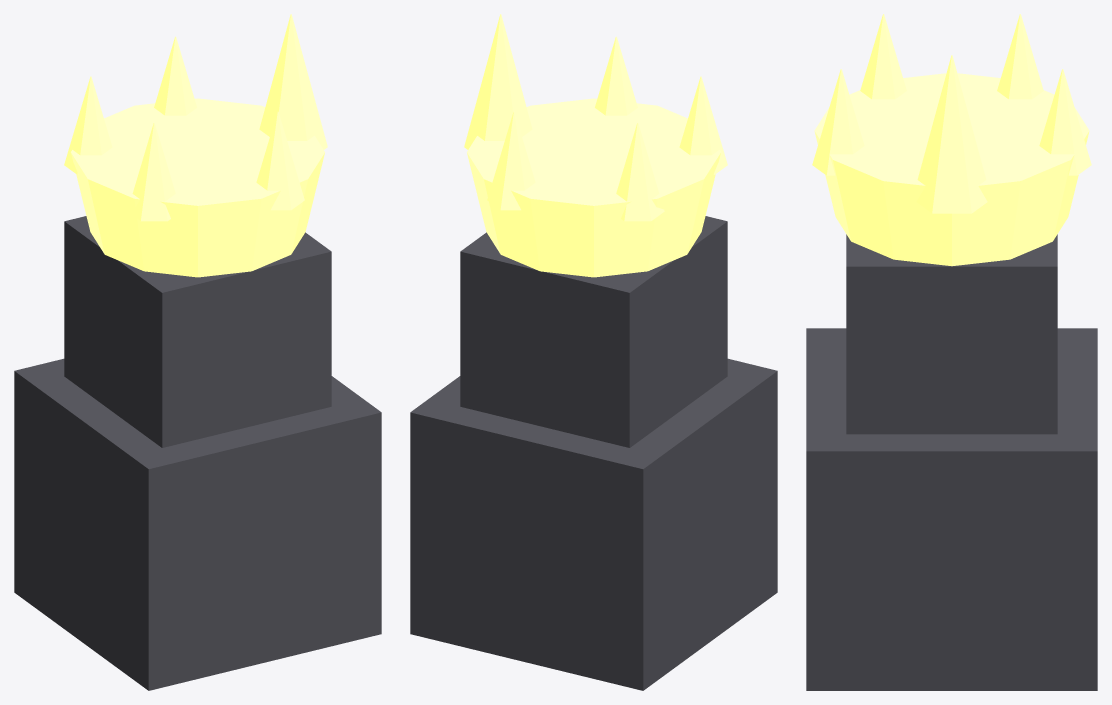
File: RC_Objective_Crown.glb
The picture shows the model from 3 angles, left to right: view 1: azimuth 30°, elevation 25°; view 2: azimuth 150°, elevation 25°; view 3: azimuth 270°, elevation 25°; orthographic projection. The views are drawn at different scales.
Visible parts, largest first — view 1: RC_Objective_Crown_Pedestal, RC_Objective_Crown_Band, RC_Objective_Crown_Points; view 2: RC_Objective_Crown_Pedestal, RC_Objective_Crown_Band, RC_Objective_Crown_Points; view 3: RC_Objective_Crown_Pedestal, RC_Objective_Crown_Band, RC_Objective_Crown_Points.
Part boxes in pixels (bbox=[...]): RC_Objective_Crown_Pedestal: bbox=[14, 216, 381, 690]; RC_Objective_Crown_Band: bbox=[71, 98, 324, 277]; RC_Objective_Crown_Points: bbox=[64, 14, 327, 221]; RC_Objective_Crown_Pedestal: bbox=[410, 216, 777, 690]; RC_Objective_Crown_Band: bbox=[467, 98, 720, 277]; RC_Objective_Crown_Points: bbox=[464, 14, 727, 221]; RC_Objective_Crown_Pedestal: bbox=[806, 234, 1097, 690]; RC_Objective_Crown_Band: bbox=[814, 73, 1089, 266]; RC_Objective_Crown_Points: bbox=[812, 14, 1091, 213].
Size of the model in its own units: 0.56 by 1.3 by 0.55.
